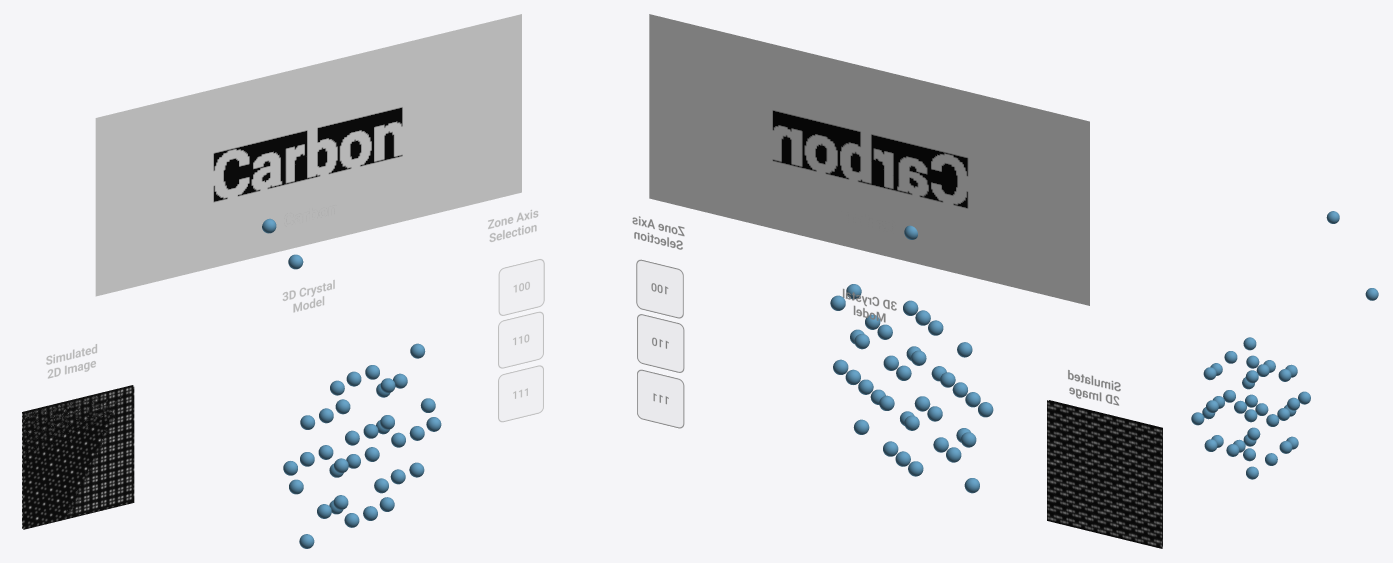
File: Carbon Structure Viewer State 111.glb
3 renders of one model, left to right at view 1: azimuth 30°, elevation 25°; view 2: azimuth 150°, elevation 25°; view 3: azimuth 270°, elevation 25°, orthographic. The views are drawn at different scales.
Visible parts, largest first — view 1: CarbonTitle, 111_Image, 100_Image; view 2: CarbonTitle, 110_Image; view 3: no part large enough to name.
Boxes of the visible parts, x1=… form: CarbonTitle: x1=95, y1=14, x2=521, y2=296; 111_Image: x1=23, y1=386, x2=134, y2=529; 100_Image: x1=23, y1=386, x2=133, y2=527; CarbonTitle: x1=649, y1=14, x2=1089, y2=305; 110_Image: x1=1047, y1=400, x2=1162, y2=548.
Size of the model in its own units: 1.71 by 1.3 by 0.5827.
Materials: 13 (11 with a texture image).
